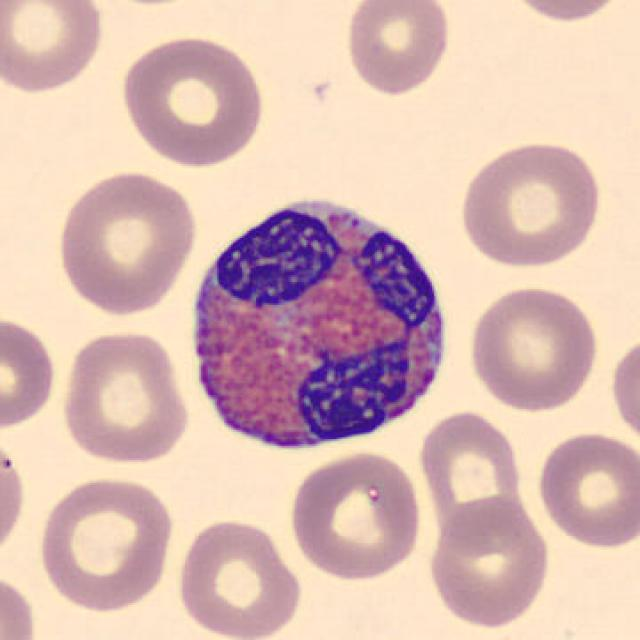Eosinophil: (178, 180, 458, 467)
RBC: (51, 166, 201, 317), (115, 32, 268, 169), (34, 472, 178, 614), (455, 136, 605, 270), (284, 448, 426, 584), (57, 326, 192, 467), (464, 282, 603, 414), (425, 490, 553, 631), (172, 515, 306, 640), (414, 406, 526, 548), (532, 427, 638, 552), (342, 0, 454, 99), (0, 0, 107, 97), (0, 310, 60, 431), (606, 328, 640, 451), (0, 428, 30, 566), (498, 0, 633, 26), (0, 569, 41, 640), (94, 0, 210, 9)
